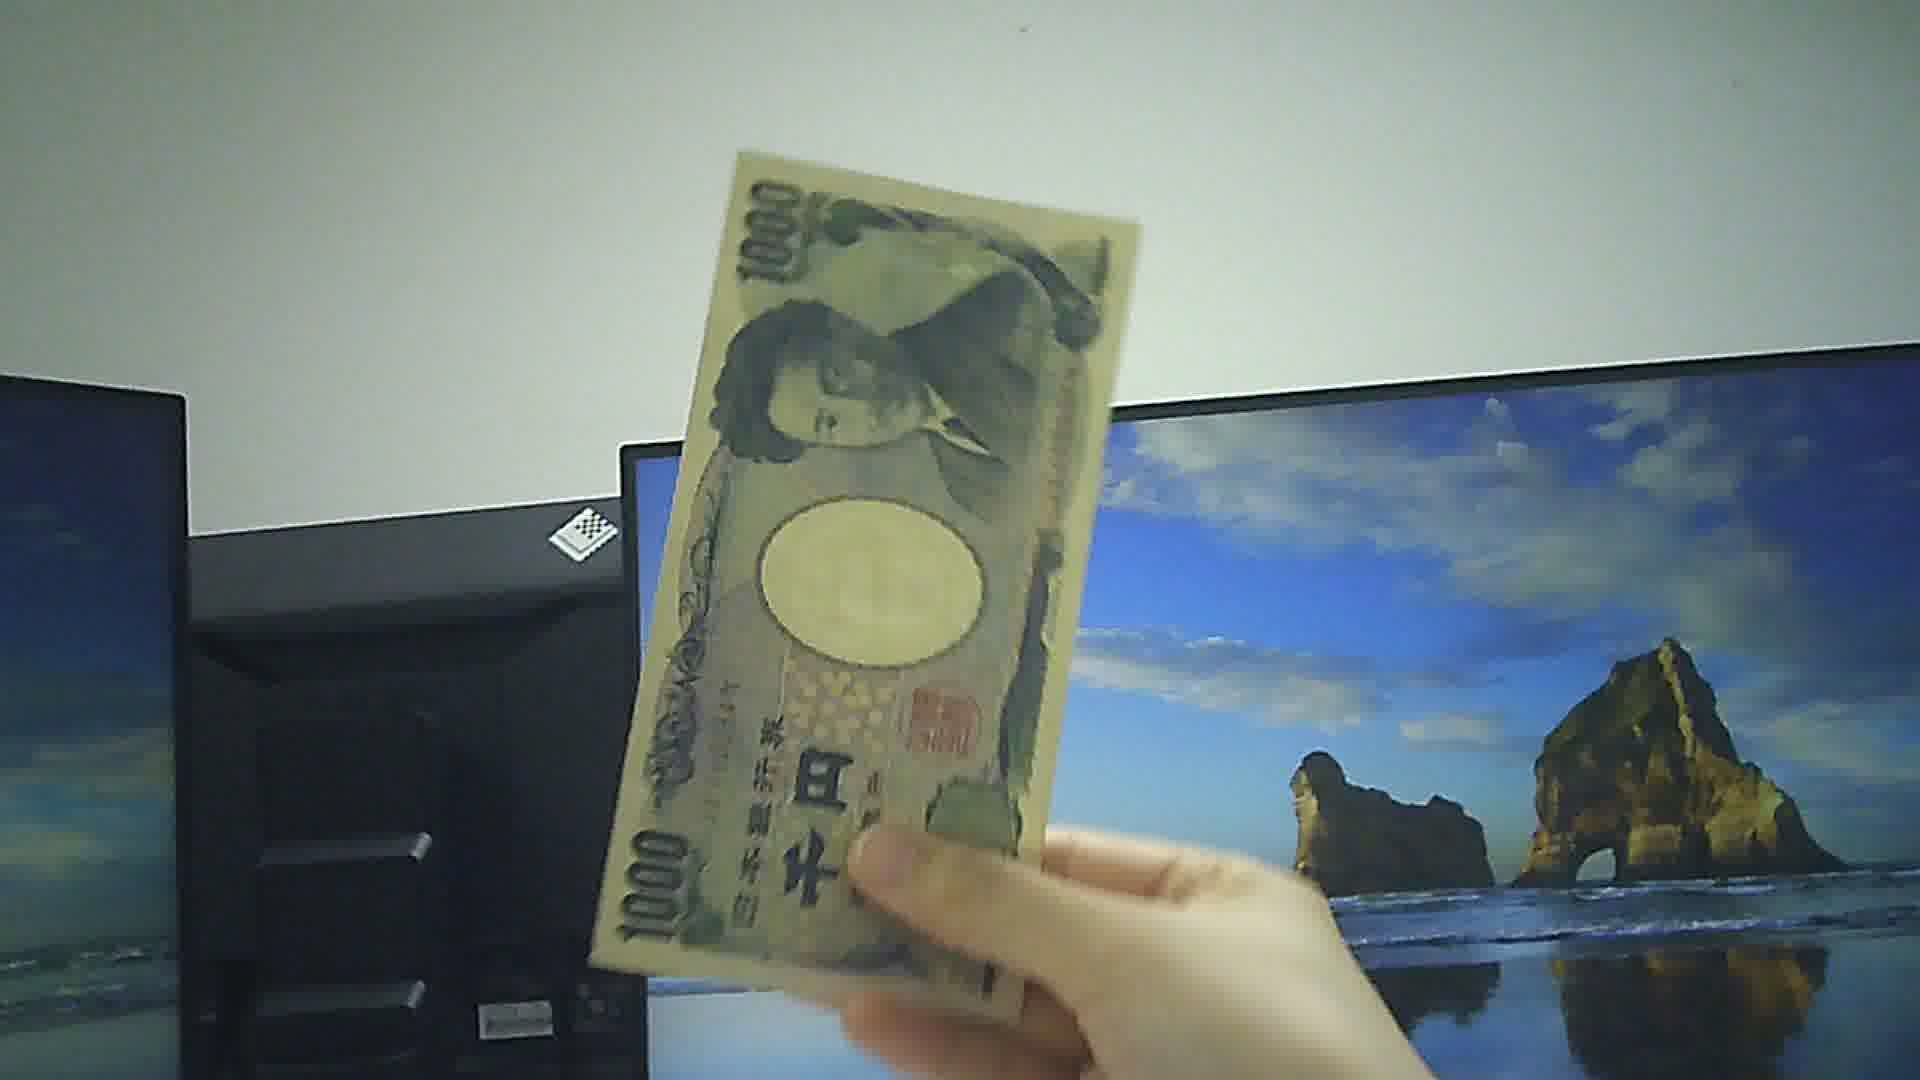1,000 Yen: (603, 148, 1145, 1025)
